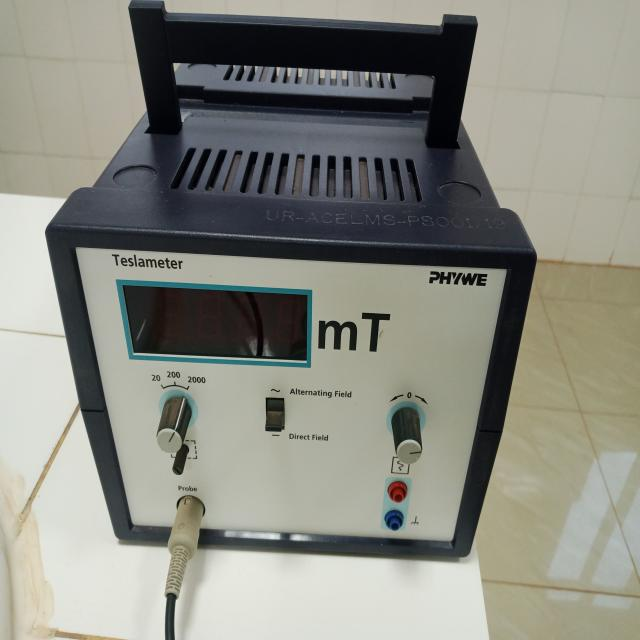Teslameter PS: (42, 0, 544, 573)
